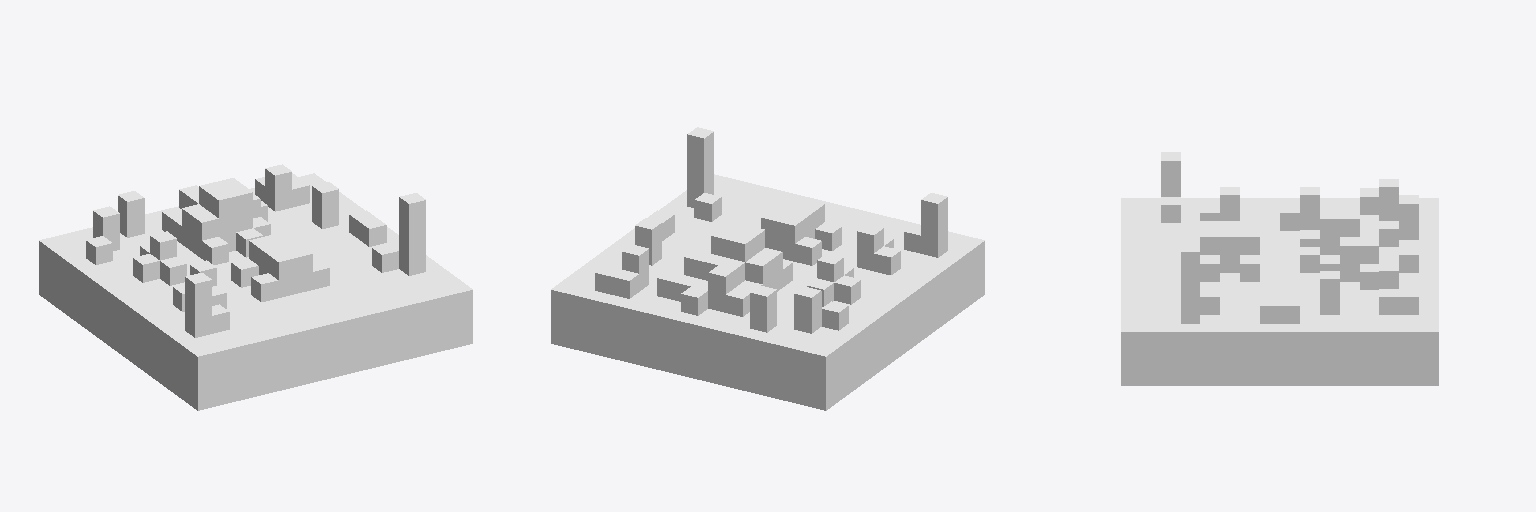
The model's file is trainore.obj.
The picture shows the model from 3 angles: view 1: azimuth 30°, elevation 25°; view 2: azimuth 150°, elevation 25°; view 3: azimuth 270°, elevation 25°; orthographic projection.
Visible parts, largest first — view 1: CaveTrainOre; view 2: CaveTrainOre; view 3: CaveTrainOre.
Part boxes in pixels (x1,y1,x2,y2): CaveTrainOre: (39,164,472,410); CaveTrainOre: (551,127,984,410); CaveTrainOre: (1121,152,1438,385).
Size of the model in its own units: 16 by 7 by 16.